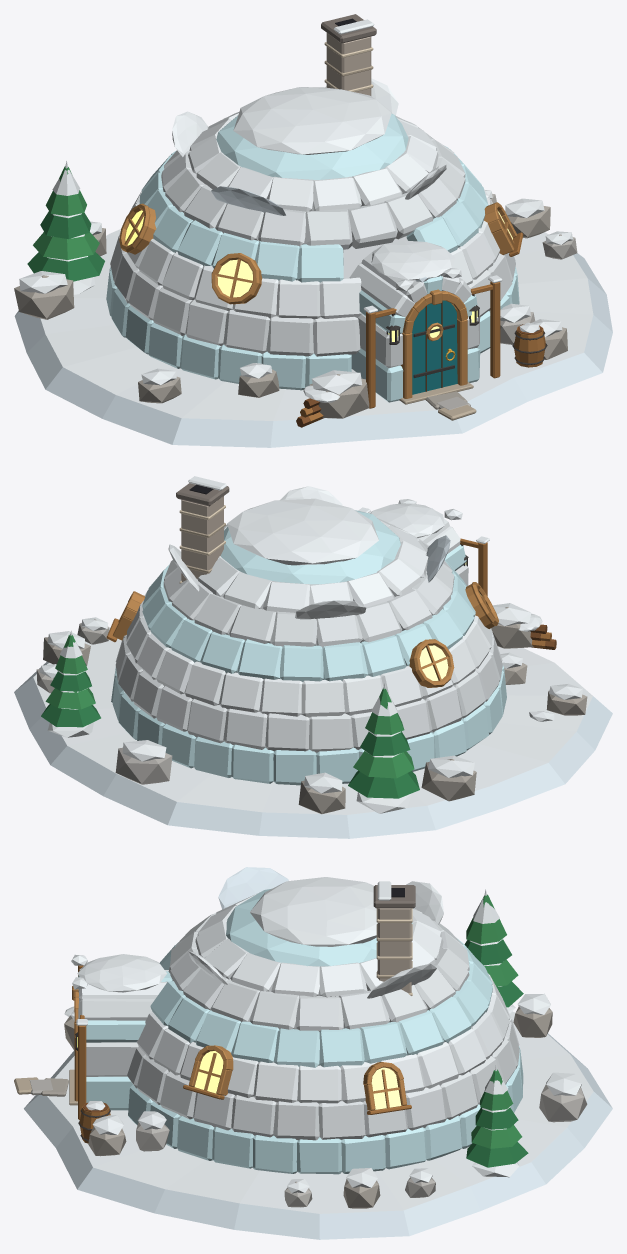
File: snow_dome_t2_exterior.glb
3 renders of one model, top to bottom at view 1: azimuth 30°, elevation 25°; view 2: azimuth 150°, elevation 25°; view 3: azimuth 270°, elevation 25°, orthographic. The views are drawn at different scales.
Visible parts, largest first — view 1: snow_dome_t2_exterior, snow_dome_t2_exterior_roof, part_crown__park, part_door_leaf; view 2: snow_dome_t2_exterior, snow_dome_t2_exterior_roof, part_crown__park, part_crown; view 3: snow_dome_t2_exterior, snow_dome_t2_exterior_roof, part_crown, part_crown__park.
Boxes of the visible parts, x1,y1,x2,y2 form: snow_dome_t2_exterior: (14,189,612,447); snow_dome_t2_exterior_roof: (139,14,488,282); part_crown__park: (27,161,104,281); part_door_leaf: (412,300,457,394); snow_dome_t2_exterior: (14,499,612,838); snow_dome_t2_exterior_roof: (142,476,475,681); part_crown__park: (348,682,419,798); part_crown: (41,631,100,727); snow_dome_t2_exterior: (14,954,612,1239); snow_dome_t2_exterior_roof: (150,867,492,1067); part_crown: (466,1065,528,1167); part_crown__park: (464,889,523,1007).
Size of the model in its own units: 9.1 by 4.15 by 8.83.
